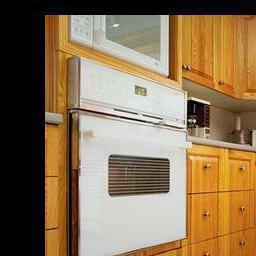Electrodomestico: (68, 92, 184, 256)
